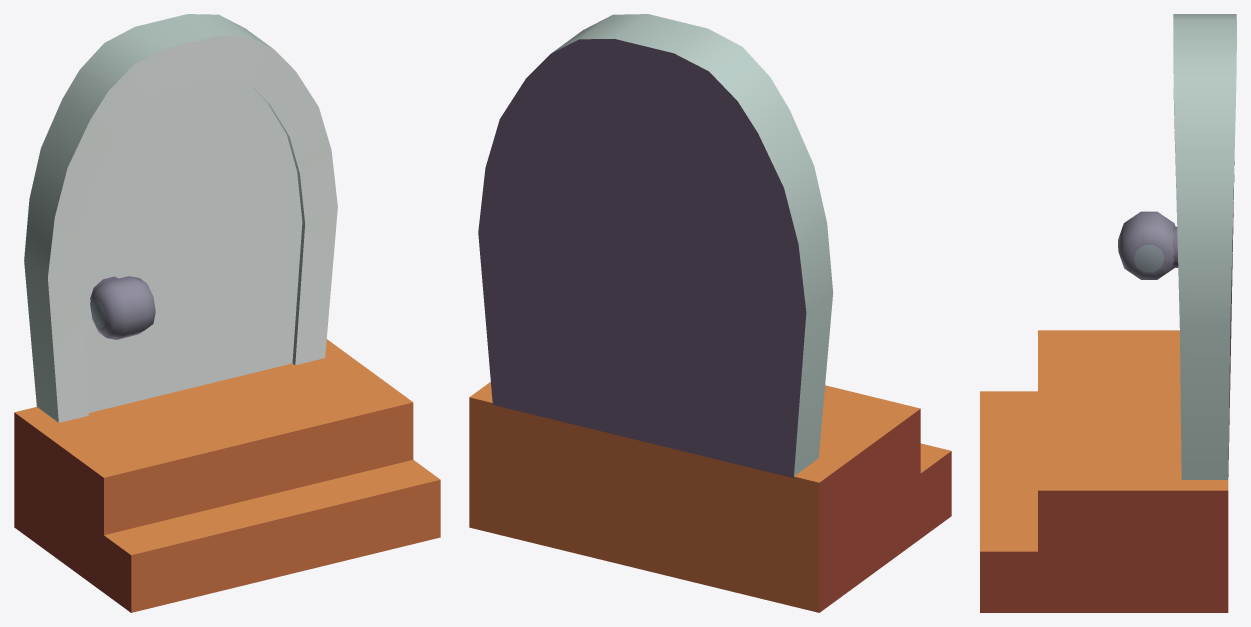
Rendered from Door03_White_Wood.glb.
3 renders of one model, left to right at view 1: azimuth 30°, elevation 25°; view 2: azimuth 150°, elevation 25°; view 3: azimuth 270°, elevation 25°, orthographic. The views are drawn at different scales.
Parts seen in each view (by area): view 1: Door03_White_Wood; view 2: Door03_White_Wood; view 3: Door03_White_Wood.
Part boxes in pixels (x1,y1,x2,y2): Door03_White_Wood: (14, 14, 440, 612); Door03_White_Wood: (469, 14, 951, 612); Door03_White_Wood: (980, 14, 1236, 612).
Size of the model in its own units: 0.9795 by 1.41 by 0.6625.
Materials: 1 (1 with a texture image).
